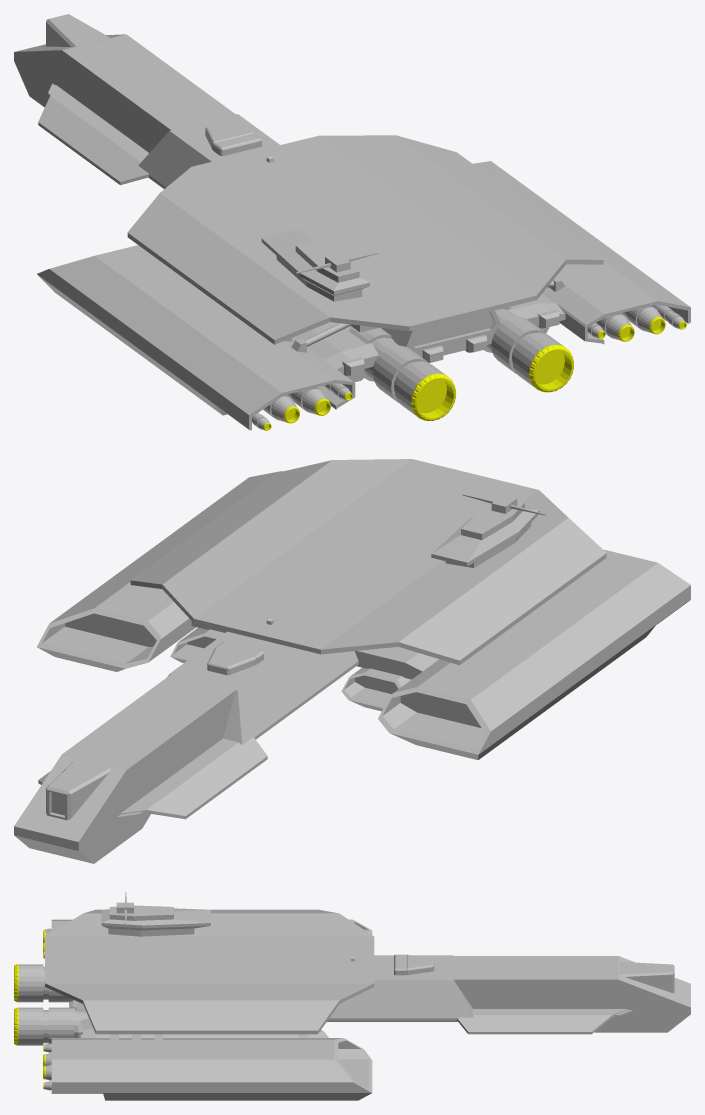
File: Deadalus.dae
3 renders of one model, top to bottom at view 1: azimuth 30°, elevation 25°; view 2: azimuth 150°, elevation 25°; view 3: azimuth 270°, elevation 25°, orthographic. The views are drawn at different scales.
Visible parts, largest first — view 1: Daedalus; view 2: Daedalus; view 3: Daedalus.
Part boxes in pixels (x1,y1,x2,y2): Daedalus: (14,14,690,430); Daedalus: (14,459,690,863); Daedalus: (14,892,690,1100).
Bounding box in the file's own units: 190 × 334 × 49.43.
